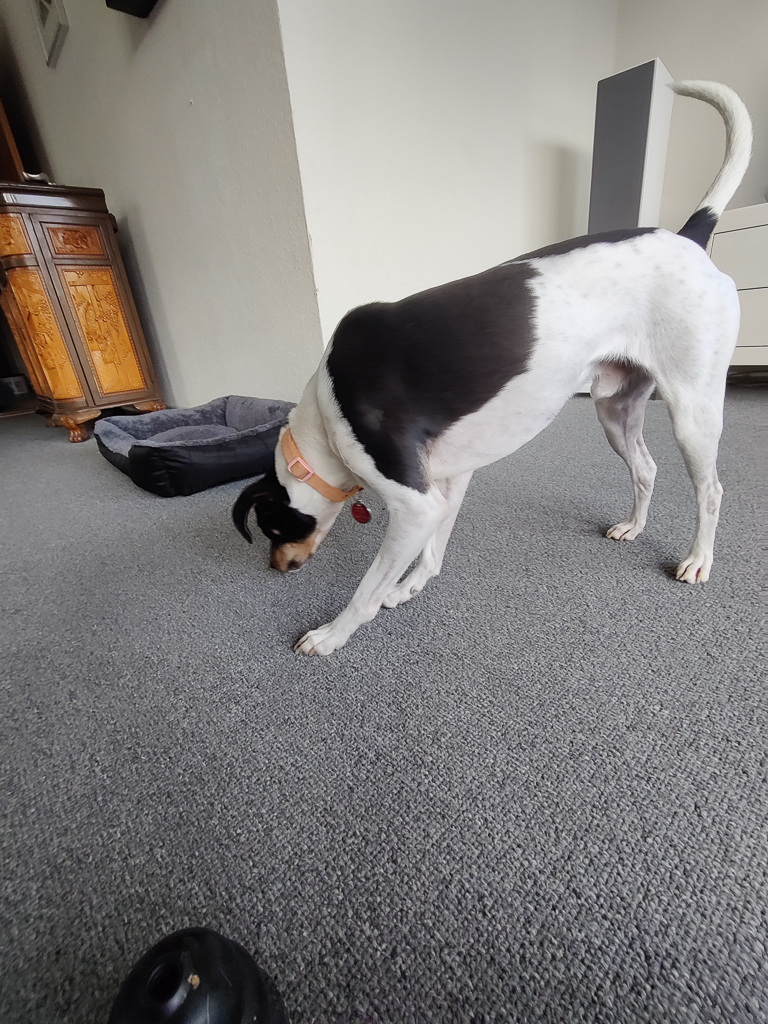Dog: (226, 74, 761, 670)
